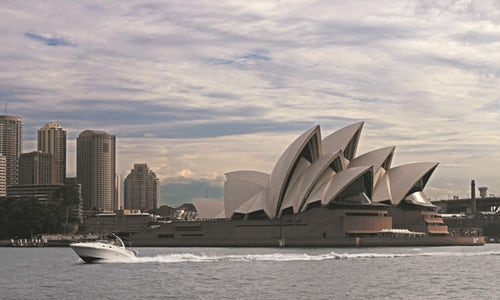opera house: (153, 107, 486, 245)
